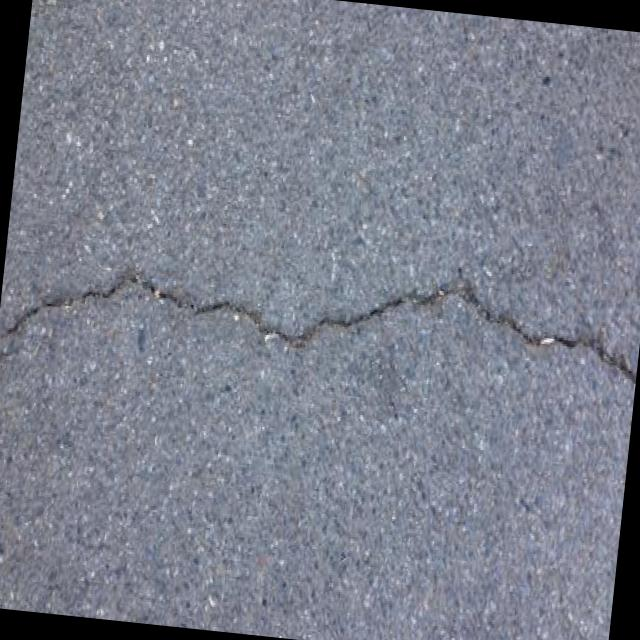Retak-Melintang: (0, 261, 636, 384)
